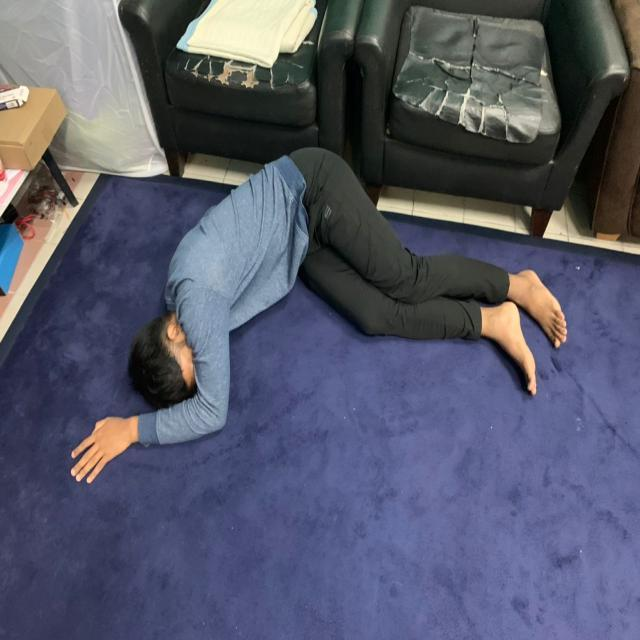fall: (66, 144, 566, 483)
